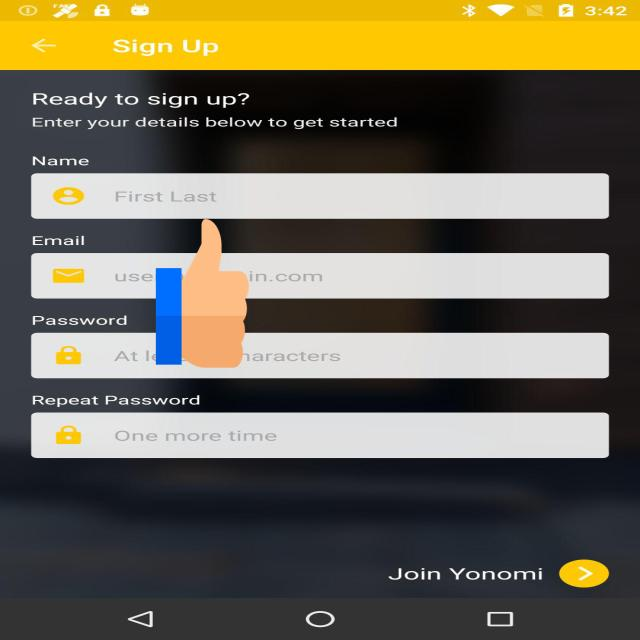privacy zuckering: (156, 216, 249, 372)
